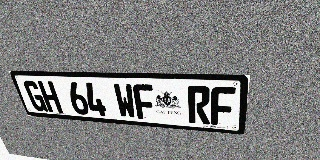4: (82, 82, 107, 116)
6: (65, 82, 91, 115)
F: (211, 86, 236, 126), (132, 84, 156, 120)
G: (22, 80, 48, 112)
H: (37, 81, 63, 113)
R: (187, 86, 210, 124)
W: (112, 83, 137, 119)
